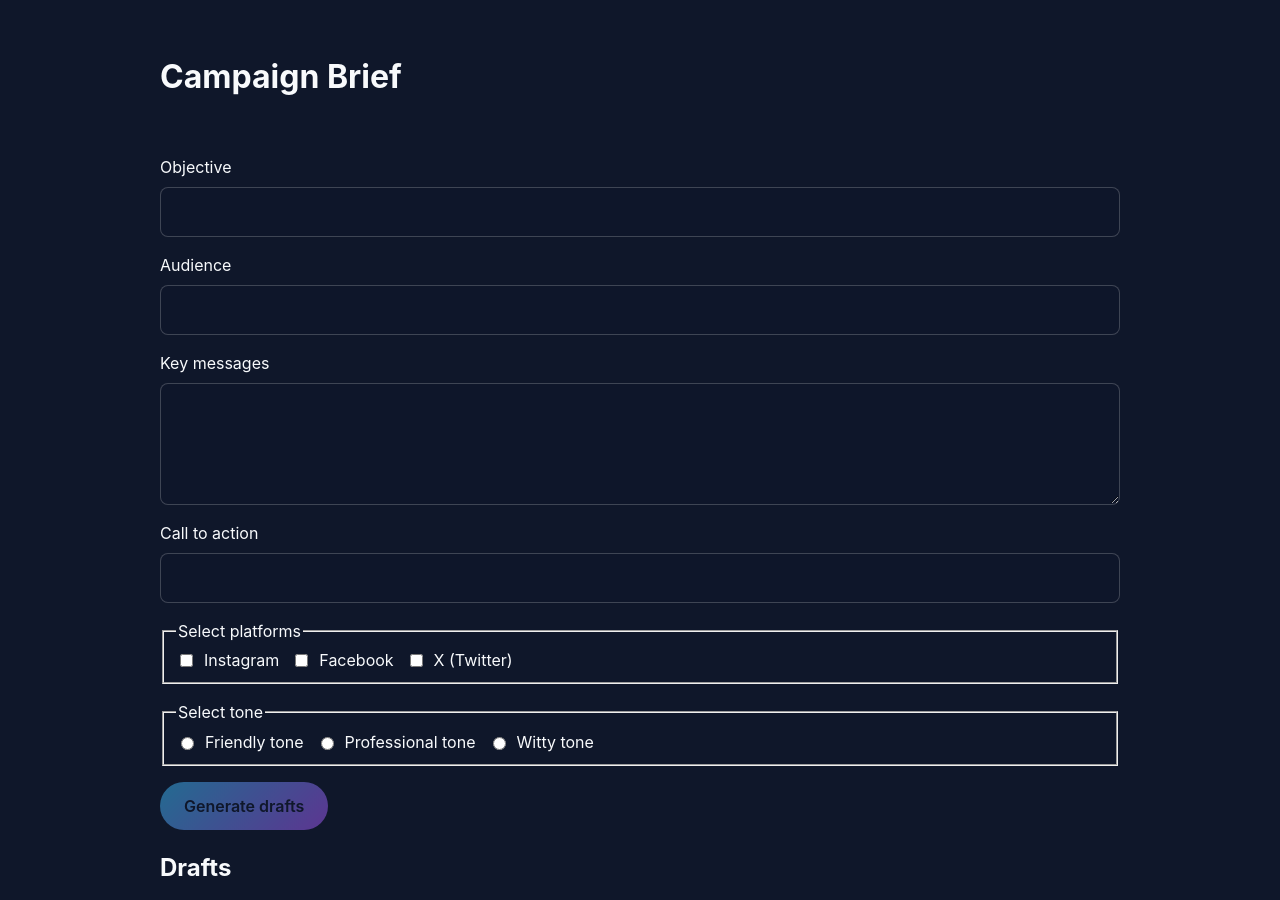
BriefForm + PlatformSelector › submit disabled until required fields are filled and a platform is selected
Expected: the button "Generate drafts" is disabled, x1=160 y1=782 x2=328 y2=830
Type "Launch new product" into the field labelled "Objective" at [640, 212], box x1=160 y1=187 x2=1120 y2=237
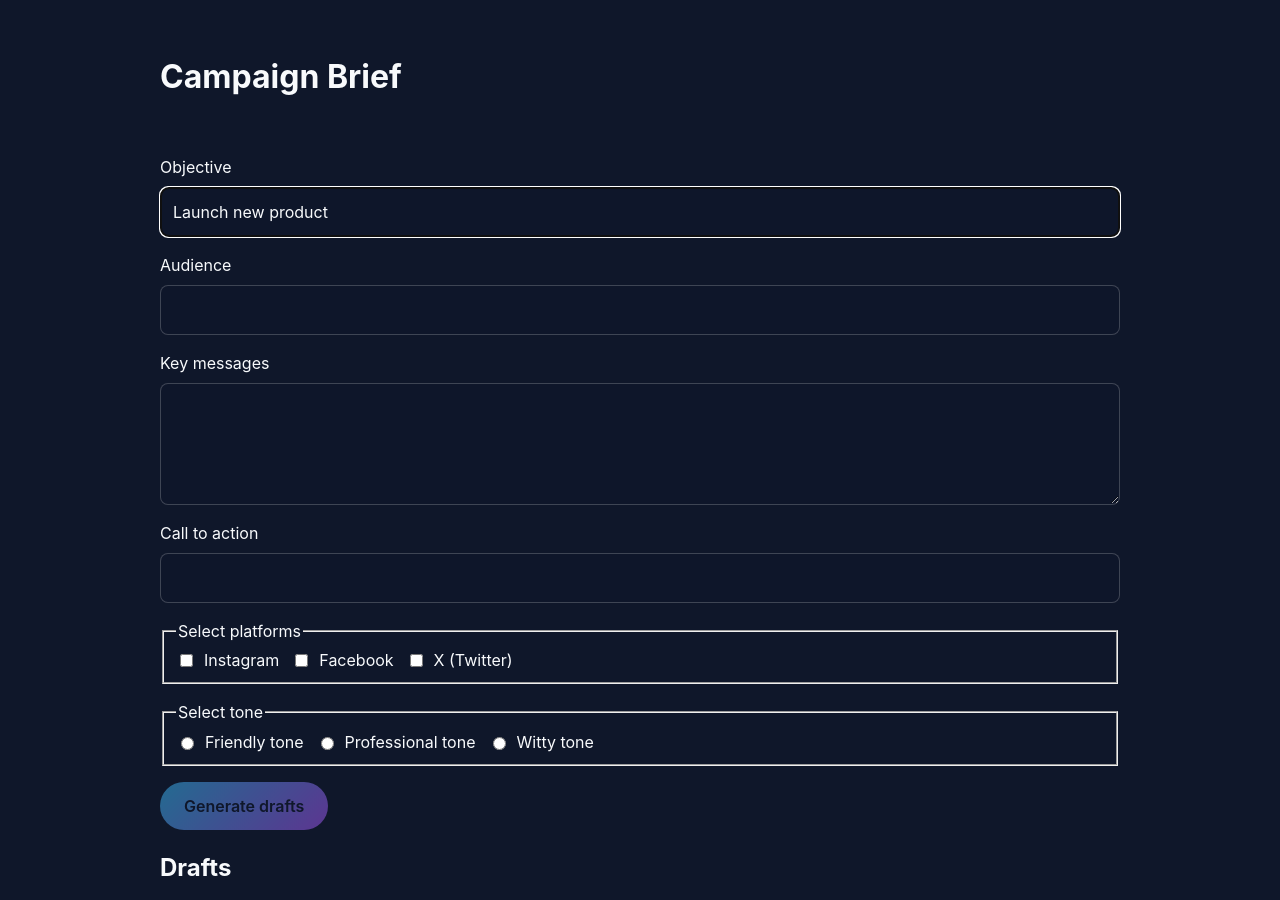
Type "Sign up today" into the field labelled "Call to action" at [640, 578], box x1=160 y1=553 x2=1120 y2=603
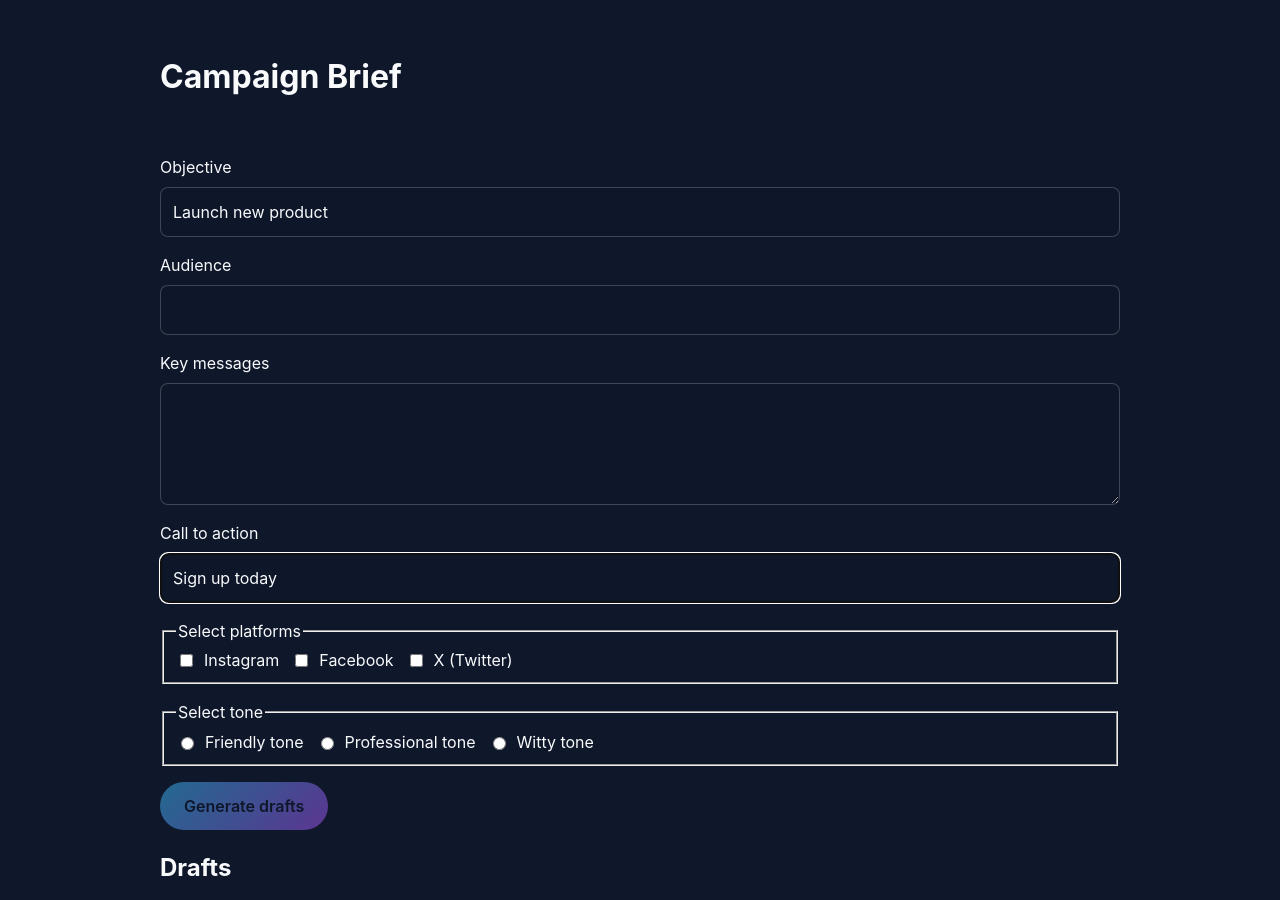
Click the radio button labelled "Friendly tone" at [188, 744], box x1=181 y1=737 x2=194 y2=750
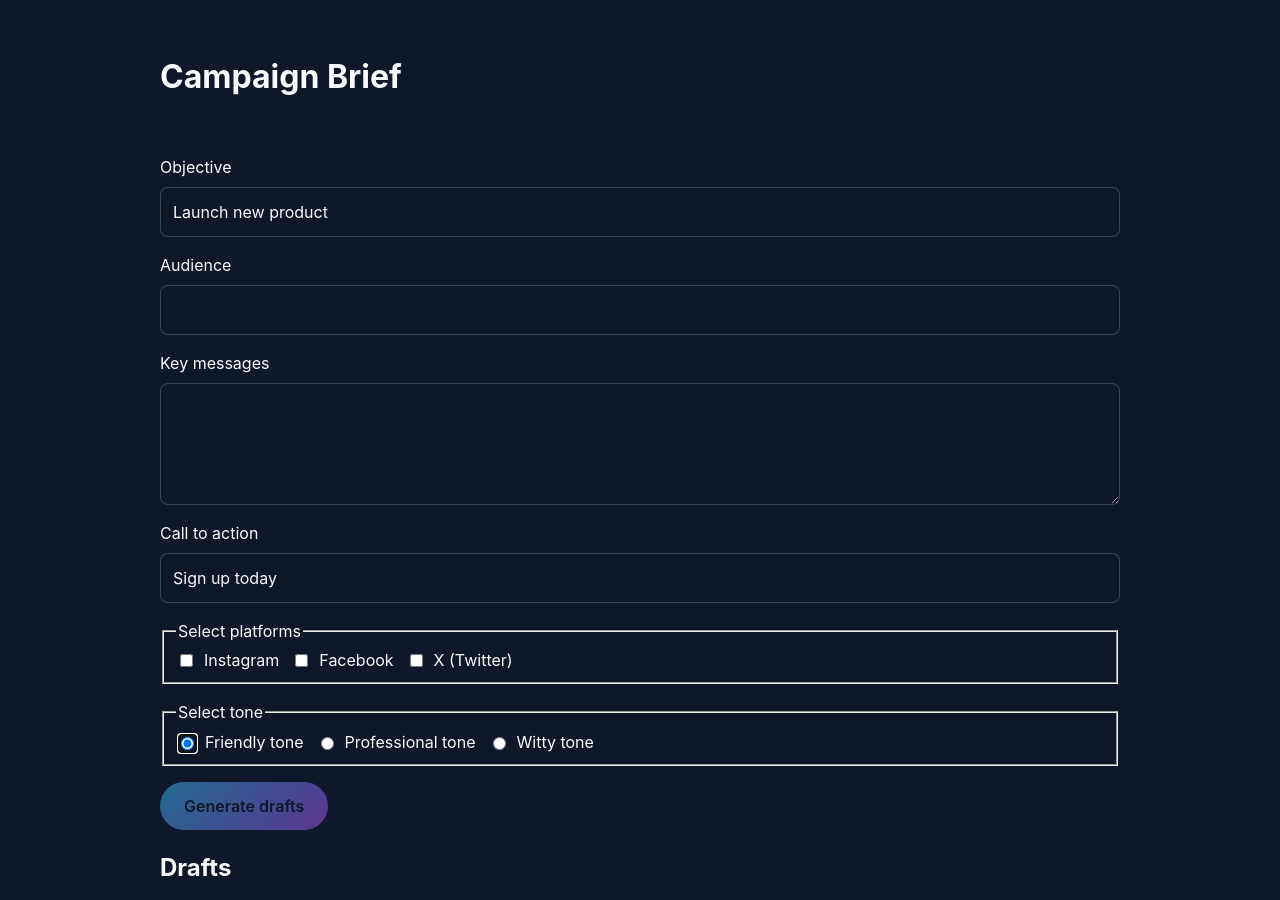
Expected: the button "Generate drafts" is disabled, x1=160 y1=782 x2=328 y2=830
Click the checkbox labelled "X (Twitter)" at [416, 660], box x1=410 y1=654 x2=423 y2=667
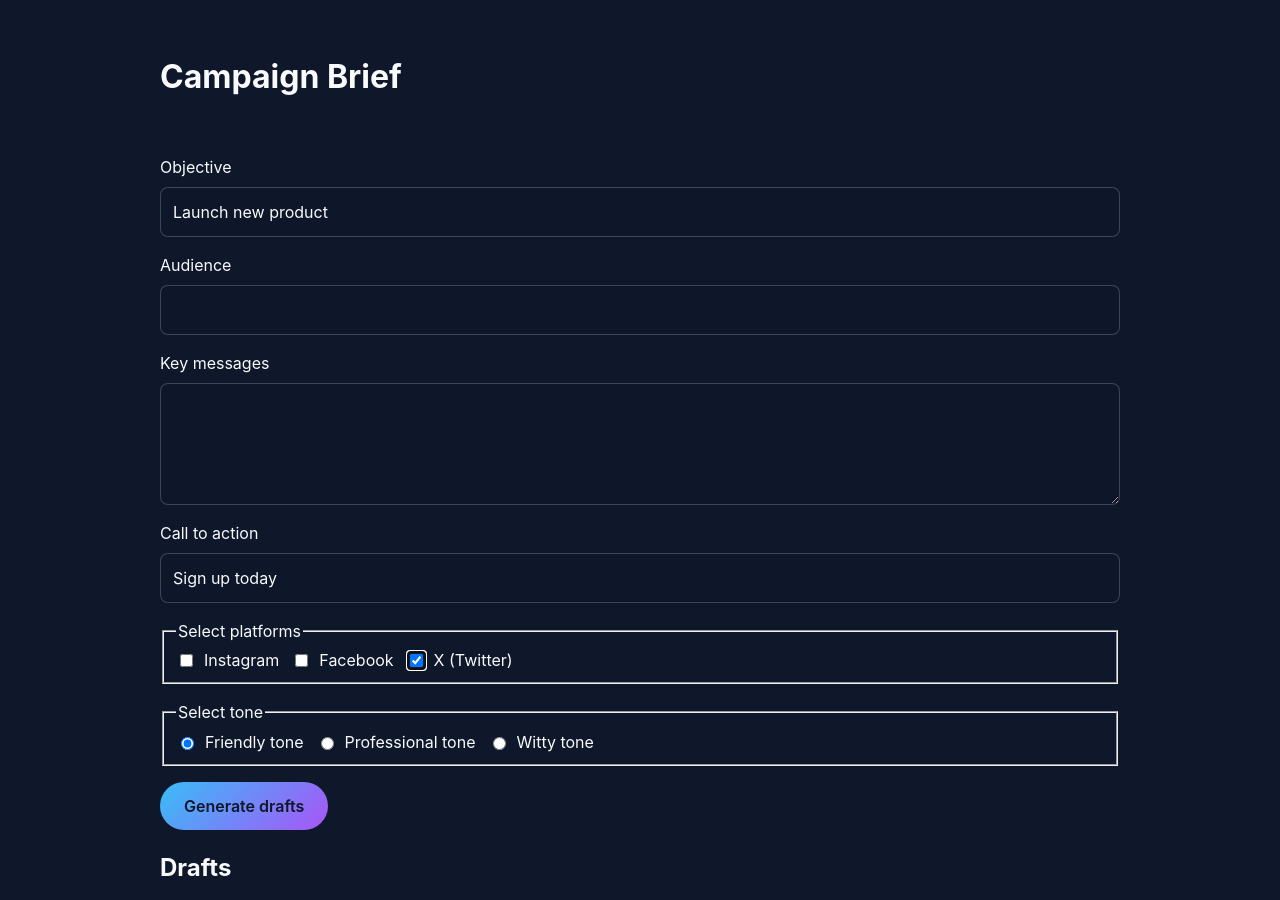
Expected: the button "Generate drafts" is enabled, x1=160 y1=782 x2=328 y2=830
